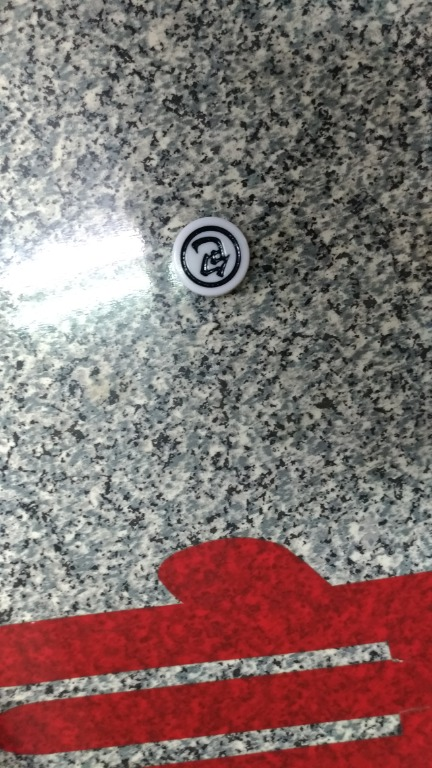b-cannon: (155, 202, 274, 310)
